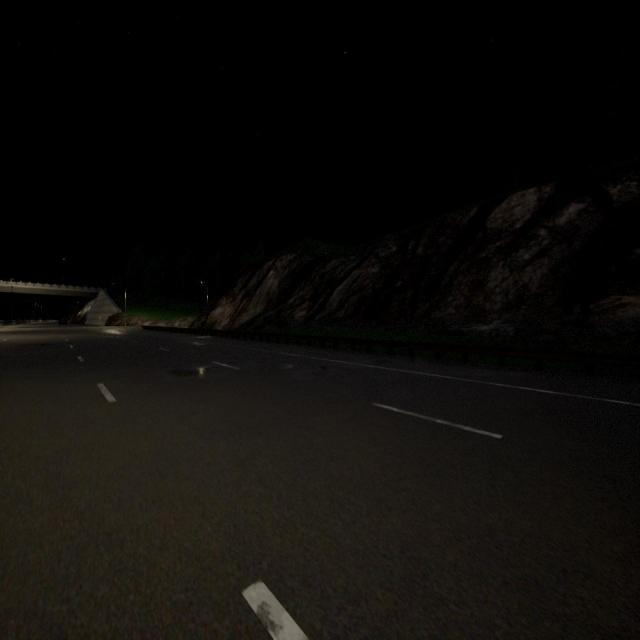Traffic_Signs: (98, 314, 104, 321)
Vehicle: (58, 317, 68, 327)
